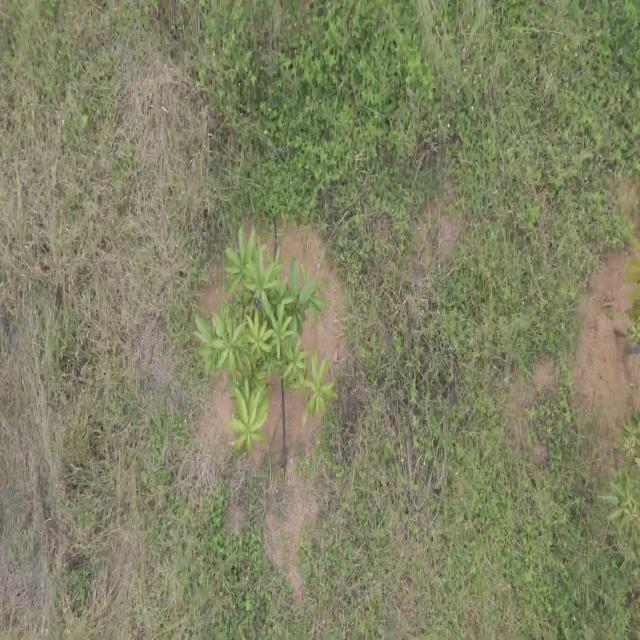mangoTree: (190, 220, 341, 456)
